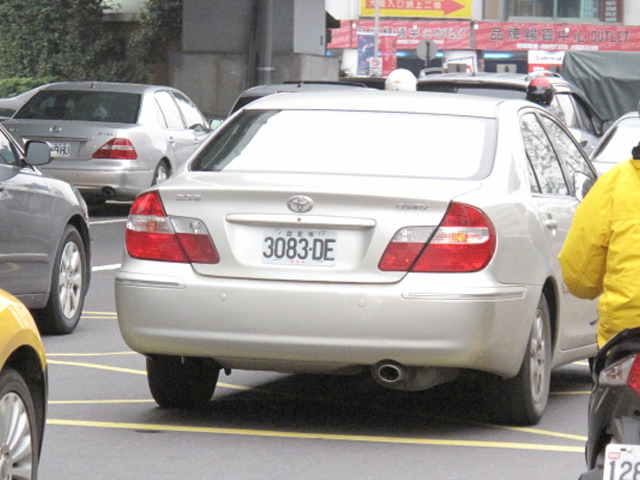plate: (259, 227, 340, 268)
